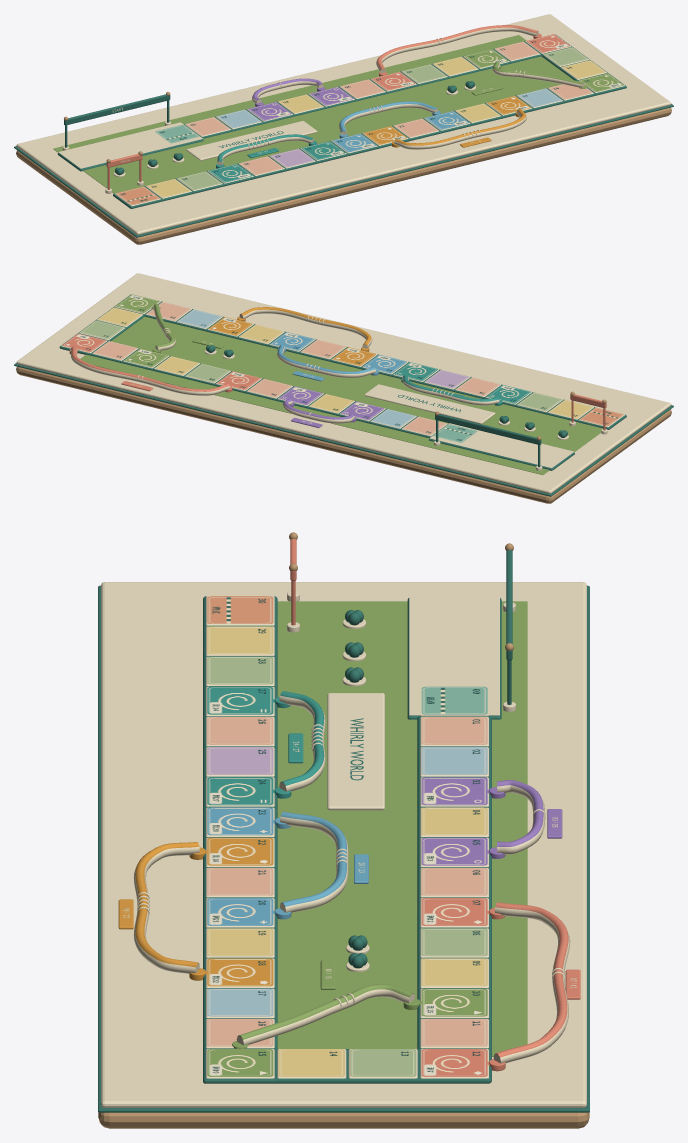
The model's file is whirly-world.glb.
3 renders of one model, top to bottom at view 1: azimuth 30°, elevation 25°; view 2: azimuth 150°, elevation 25°; view 3: azimuth 270°, elevation 25°, orthographic. The views are drawn at different scales.
Visible parts, largest first — view 1: board_sculpture_mesh, portal_pair_07_12_mesh, portal_pair_18_22_mesh, portal_pair_24_27_mesh, portal_pair_10_15_mesh, portal_pair_20_23_mesh, portal_pair_03_05_mesh; view 2: board_sculpture_mesh, portal_pair_07_12_mesh, portal_pair_18_22_mesh, portal_pair_20_23_mesh, portal_pair_24_27_mesh, portal_pair_03_05_mesh, portal_pair_10_15_mesh; view 3: board_sculpture_mesh, portal_pair_07_12_mesh, portal_pair_18_22_mesh, portal_pair_10_15_mesh, portal_pair_20_23_mesh, portal_pair_24_27_mesh, portal_pair_03_05_mesh.
Boxes of the visible parts, box(x1,y1,x2,y2) form: board_sculpture_mesh: box(14, 14, 673, 244); portal_pair_07_12_mesh: box(370, 25, 571, 91); portal_pair_18_22_mesh: box(362, 96, 531, 149); portal_pair_24_27_mesh: box(207, 134, 346, 183); portal_pair_10_15_mesh: box(463, 49, 624, 95); portal_pair_20_23_mesh: box(331, 101, 469, 153); portal_pair_03_05_mesh: box(247, 78, 354, 121); board_sculpture_mesh: box(14, 273, 673, 503); portal_pair_07_12_mesh: box(61, 333, 261, 395); portal_pair_18_22_mesh: box(207, 307, 377, 366); portal_pair_20_23_mesh: box(269, 332, 408, 381); portal_pair_24_27_mesh: box(393, 362, 532, 405); portal_pair_03_05_mesh: box(278, 386, 385, 427); portal_pair_10_15_mesh: box(115, 294, 224, 368); board_sculpture_mesh: box(98, 532, 589, 1128); portal_pair_07_12_mesh: box(420, 898, 580, 1078); portal_pair_18_22_mesh: box(118, 837, 274, 987); portal_pair_10_15_mesh: box(206, 960, 488, 1078); portal_pair_20_23_mesh: box(206, 807, 368, 927); portal_pair_24_27_mesh: box(206, 686, 325, 806); portal_pair_03_05_mesh: box(420, 777, 562, 867).
Bounding box in the file's own units: 35.63 × 3.02 × 14.13.
10 materials, 1 textured.
